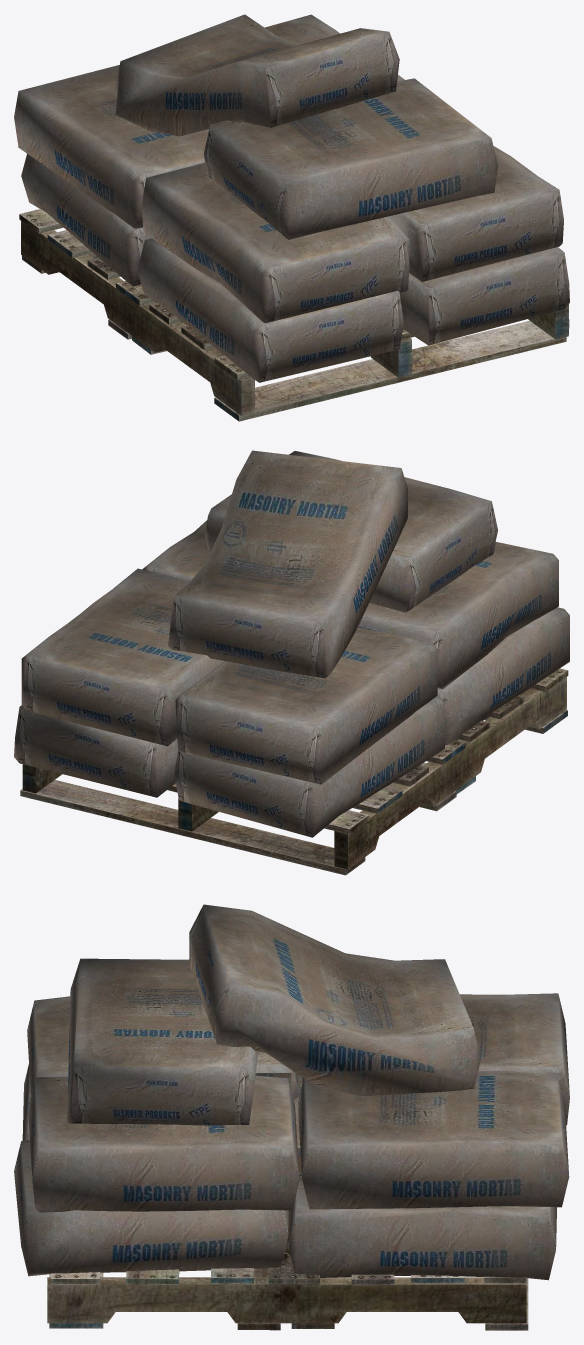
File: concretebags3.glb
3 views of the same model, one above another, from view 1: azimuth 30°, elevation 25°; view 2: azimuth 150°, elevation 25°; view 3: azimuth 270°, elevation 25° (orthographic). The views are drawn at different scales.
Parts seen in each view (by area): view 1: 0_concretebags, 1_Wood_Pallet_01; view 2: 0_concretebags, 1_Wood_Pallet_01; view 3: 0_concretebags, 1_Wood_Pallet_01.
Part boxes in pixels (bbox=[...]): 0_concretebags: bbox=[14, 14, 569, 382]; 1_Wood_Pallet_01: bbox=[19, 209, 569, 421]; 0_concretebags: bbox=[14, 450, 569, 837]; 1_Wood_Pallet_01: bbox=[20, 668, 568, 875]; 0_concretebags: bbox=[14, 904, 569, 1280]; 1_Wood_Pallet_01: bbox=[47, 1238, 528, 1330].
Bounding box in the file's own units: 1.24 × 0.9886 × 1.65.
2 materials, 2 textured.
